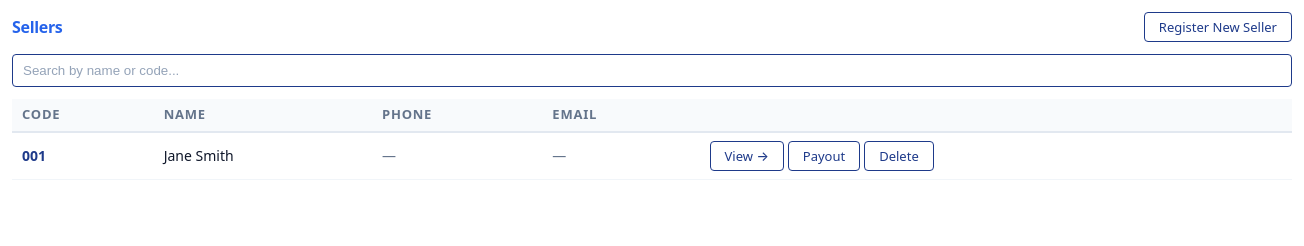
Test case: SellerListPage › surfaces the backend 409 when the seller still has items
Expected: the text "Jane Smith" is shown, [154,132,372,179]
Click the button with aria-label "delete seller 001": [899, 156] box [864,140,934,170]
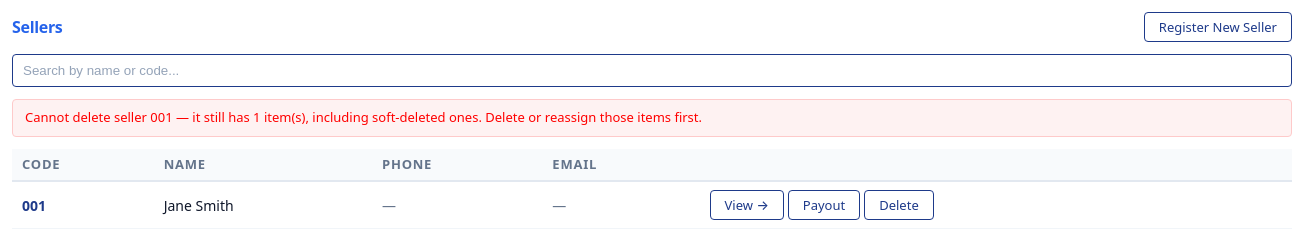
Expected: the text "Jane Smith" is shown, [154,181,372,228]
Expected: the message shows "still has 1 item", [25,108,702,126]
